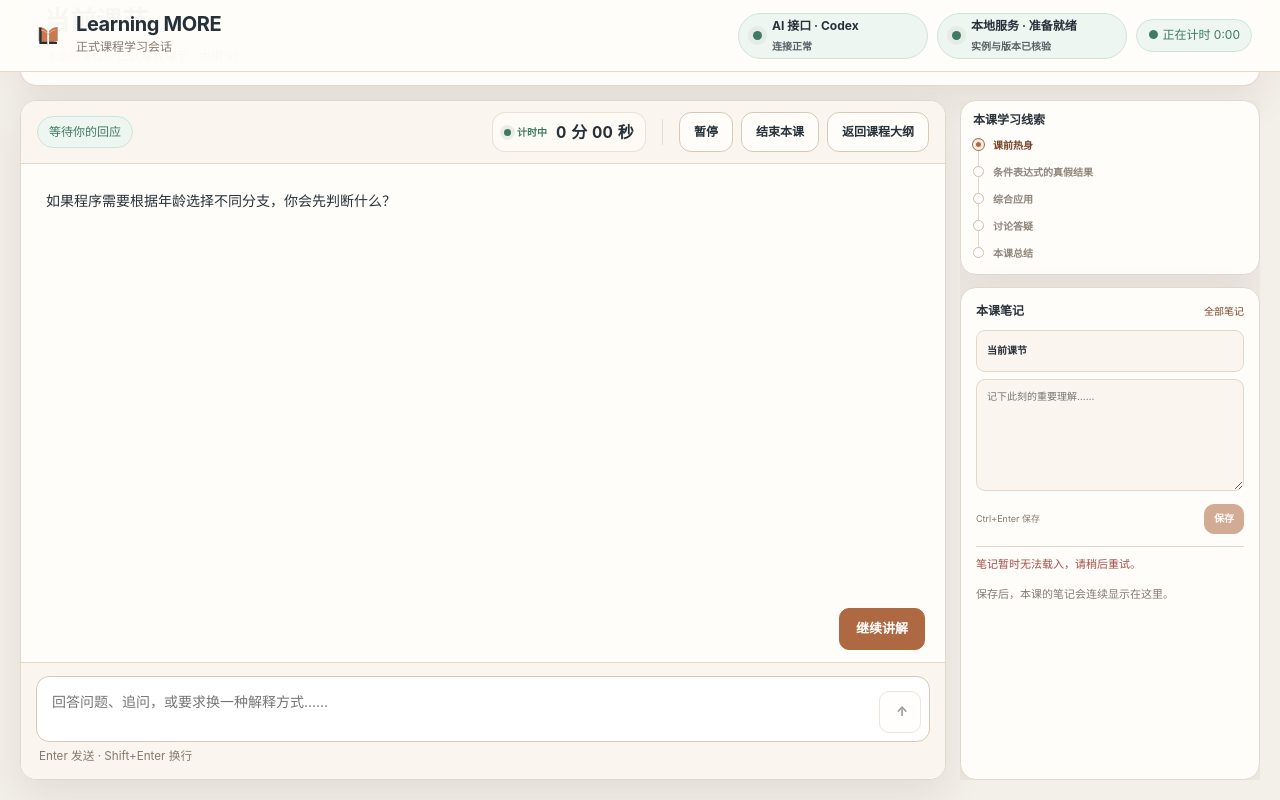
learning SessionPage › keeps the warmup message untitled and shows the first knowledge-point title on the reply turn
(page scrolled)
Expected: the text "如果程序需要根据年龄选择不同分支，你会先判断什么？" is shown, top-left (46, 192), bottom-right (396, 209)
Expected: the button "继续讲解" is shown, top-left (839, 608), bottom-right (925, 650)
In the text box named "学习输入": x=458, y=709 top-left (45, 685), bottom-right (870, 733), type "我不太确定。"
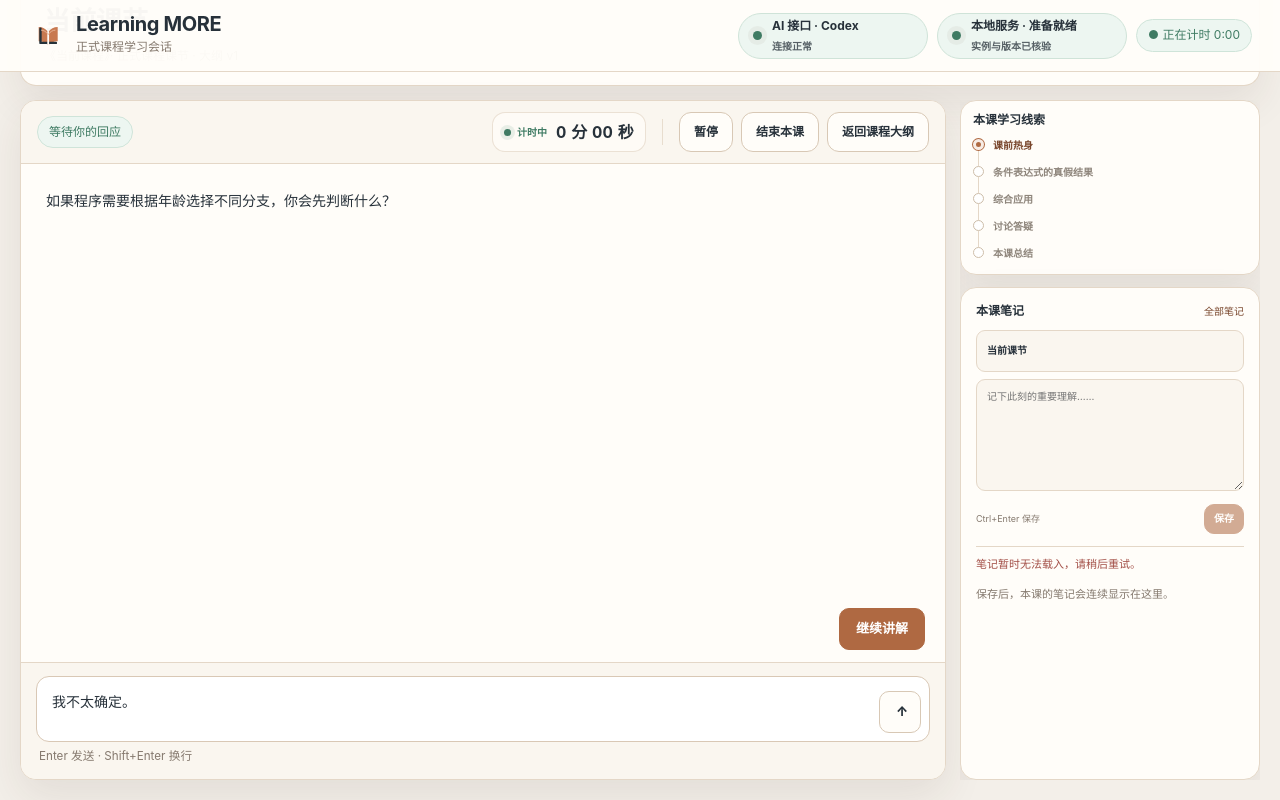
Click the button named "发送": x=900, y=712 top-left (879, 691), bottom-right (921, 733)
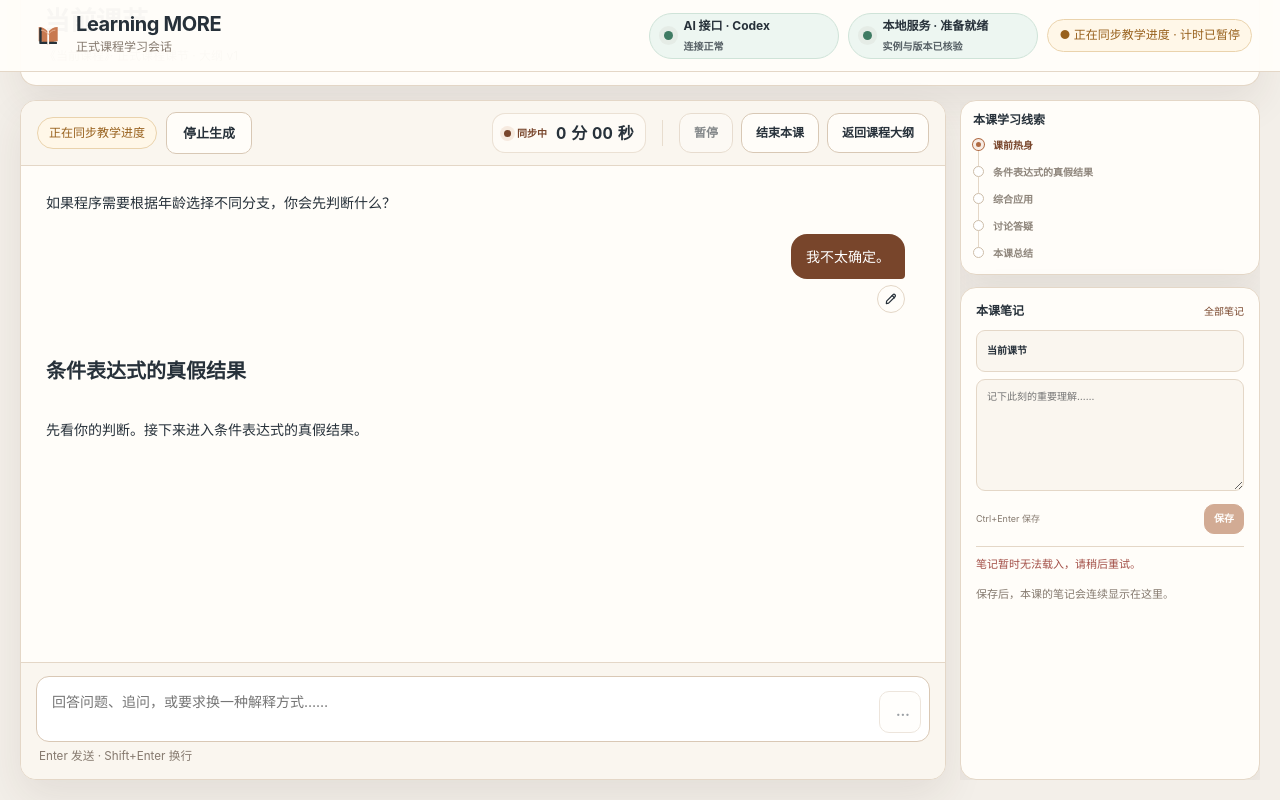
Now the heading "条件表达式的真假结果" is shown, box top-left (46, 360), bottom-right (246, 384)
